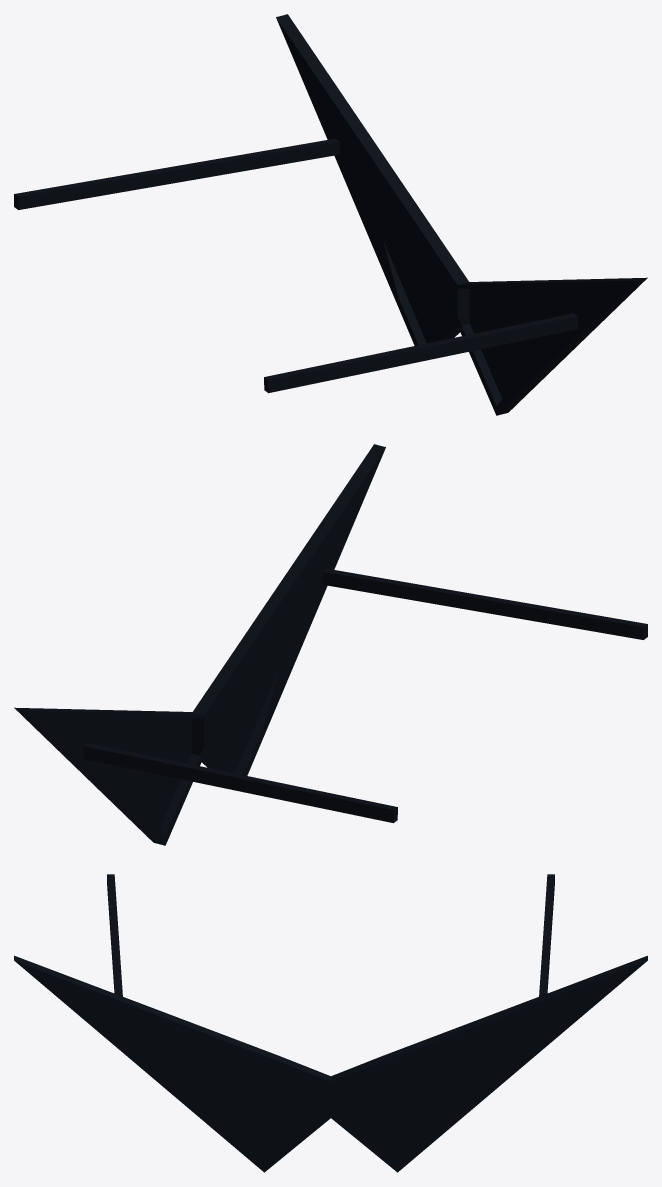
File: TRIANGLE SUNGLASSES.fbx
The picture shows the model from 3 angles, top to bottom: view 1: azimuth 30°, elevation 25°; view 2: azimuth 150°, elevation 25°; view 3: azimuth 270°, elevation 25°; orthographic projection. The views are drawn at different scales.
Visible parts, largest first — view 1: TRIANGLE_SUNGLASSES; view 2: TRIANGLE_SUNGLASSES; view 3: TRIANGLE_SUNGLASSES.
Boxes of the visible parts, left/top/right/bottom form: TRIANGLE_SUNGLASSES: left=14, top=14, right=647, bottom=415; TRIANGLE_SUNGLASSES: left=14, top=444, right=647, bottom=845; TRIANGLE_SUNGLASSES: left=14, top=874, right=647, bottom=1172.
Size of the model in its own units: 18.63 by 12.96 by 35.28.
